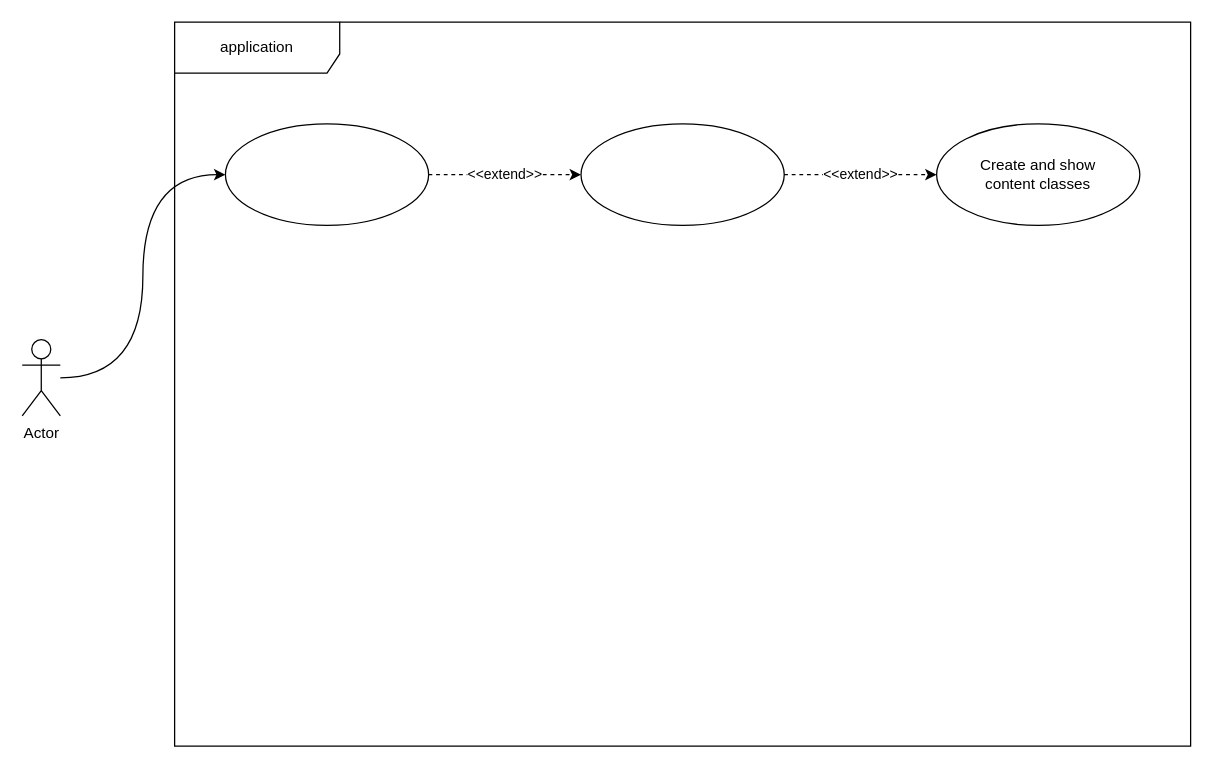
Some shapes in this 1213 by 768 pixel diagram are drawn without their labels. Here are the shapes that lost their labels. From the top down, the centre of each, then its label:
(x=326, y=174): Open url
(x=682, y=174): Create and show structure classes
